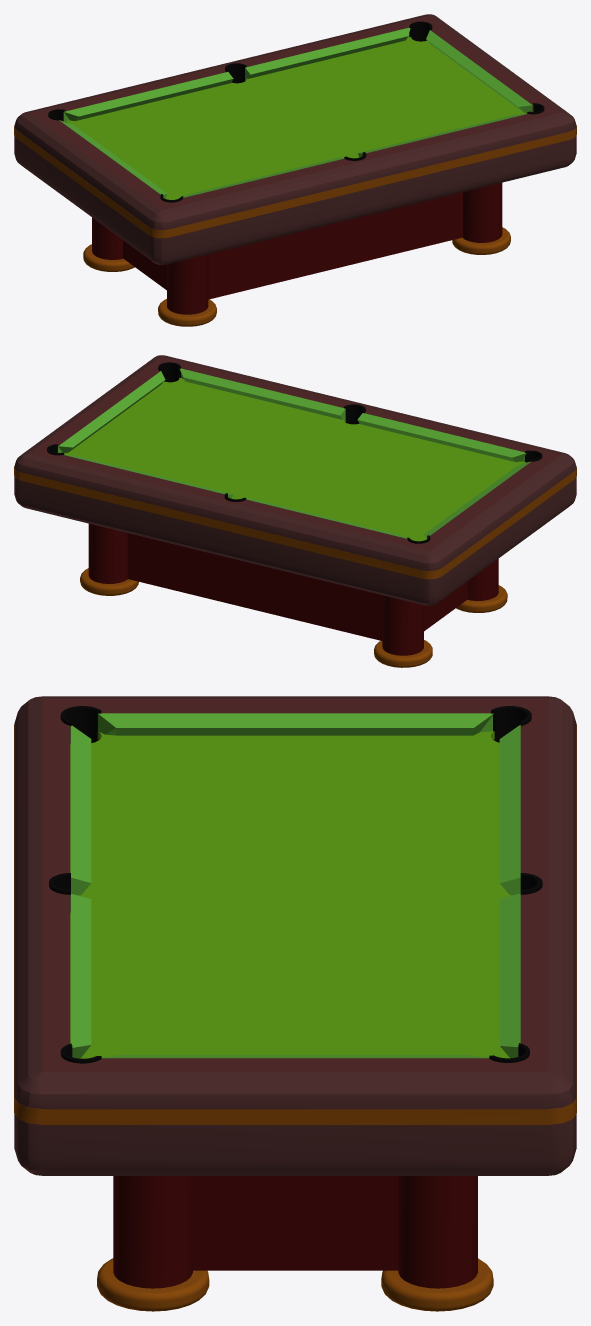
Rendered from poolTable.fbx.
The picture shows the model from 3 angles, top to bottom: view 1: azimuth 30°, elevation 25°; view 2: azimuth 150°, elevation 25°; view 3: azimuth 270°, elevation 25°; orthographic projection. The views are drawn at different scales.
Parts seen in each view (by area): view 1: slate, outer fram, legs, frame, bumpers, frame deta, feet, pocket gua; view 2: slate, outer fram, legs, frame, bumpers, frame deta, feet, pocket gua; view 3: slate, outer fram, legs, frame, bumpers, frame deta, feet, pocket gua.
Part boxes in pixels (x1=…): slate: x1=64, y1=37, x2=525, y2=199; outer fram: x1=14, y1=14, x2=576, y2=265; legs: x1=92, y1=182, x2=502, y2=314; frame: x1=29, y1=15, x2=561, y2=210; bumpers: x1=59, y1=27, x2=532, y2=198; frame deta: x1=14, y1=126, x2=576, y2=238; feet: x1=83, y1=227, x2=510, y2=326; pocket gua: x1=48, y1=21, x2=544, y2=202; slate: x1=64, y1=377, x2=526, y2=541; outer fram: x1=14, y1=355, x2=576, y2=605; legs: x1=88, y1=523, x2=498, y2=655; frame: x1=29, y1=356, x2=561, y2=551; bumpers: x1=58, y1=368, x2=530, y2=538; frame deta: x1=14, y1=467, x2=576, y2=579; feet: x1=80, y1=568, x2=507, y2=667; pocket gua: x1=47, y1=362, x2=542, y2=543; slate: x1=70, y1=731, x2=511, y2=1058; outer fram: x1=14, y1=696, x2=576, y2=1175; legs: x1=113, y1=1176, x2=477, y2=1288; frame: x1=42, y1=698, x2=548, y2=1071; bumpers: x1=70, y1=713, x2=520, y2=1058; frame deta: x1=14, y1=725, x2=576, y2=1124; feet: x1=97, y1=1258, x2=493, y2=1311; pocket gua: x1=49, y1=706, x2=542, y2=1063.
Bounding box in the file's own units: 847 × 269 × 508.
